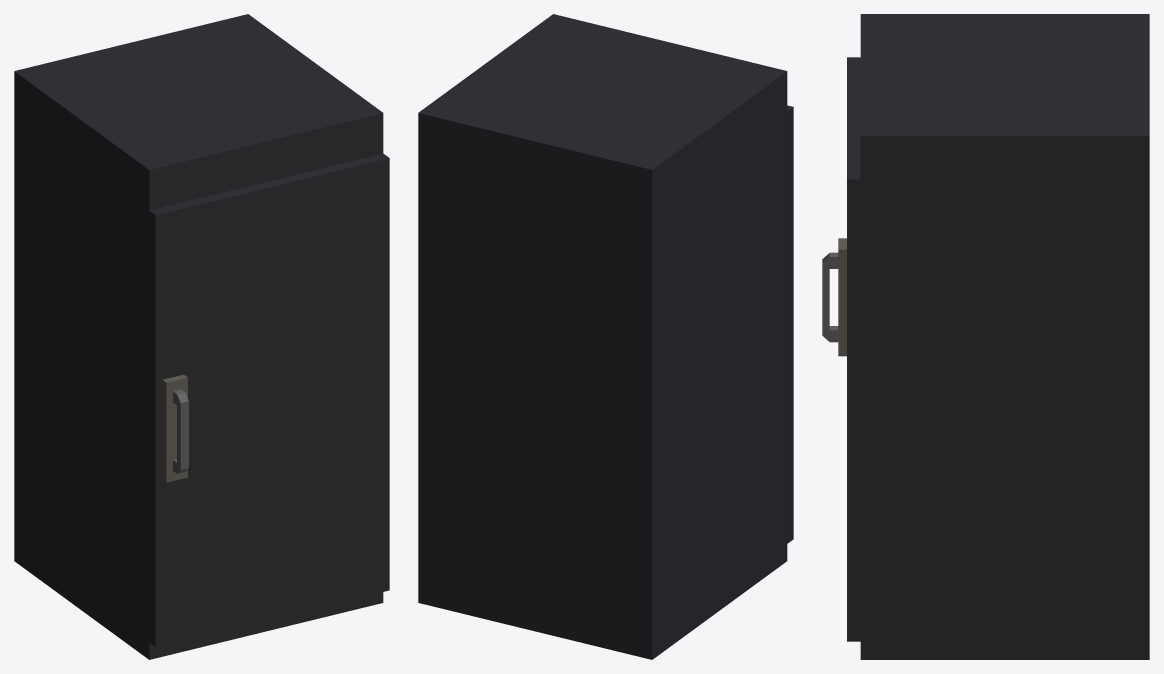
The model's file is dryingcabinets_01_E.gltf.
The picture shows the model from 3 angles, left to right: view 1: azimuth 30°, elevation 25°; view 2: azimuth 150°, elevation 25°; view 3: azimuth 270°, elevation 25°; orthographic projection. The views are drawn at different scales.
Visible parts, largest first — view 1: dryingcabinets_01_E, Doordryingcabinets_01_E; view 2: dryingcabinets_01_E, Doordryingcabinets_01_E; view 3: dryingcabinets_01_E, Doordryingcabinets_01_E.
Part boxes in pixels (left/top/right/bottom): dryingcabinets_01_E: left=14, top=14, right=383, bottom=659; Doordryingcabinets_01_E: left=149, top=153, right=389, bottom=647; dryingcabinets_01_E: left=418, top=14, right=787, bottom=659; Doordryingcabinets_01_E: left=787, top=105, right=793, bottom=543; dryingcabinets_01_E: left=860, top=14, right=1149, bottom=659; Doordryingcabinets_01_E: left=822, top=57, right=860, bottom=641.
Size of the model in its own units: 1 by 2 by 1.13.
Materials: 1 (1 with a texture image).
